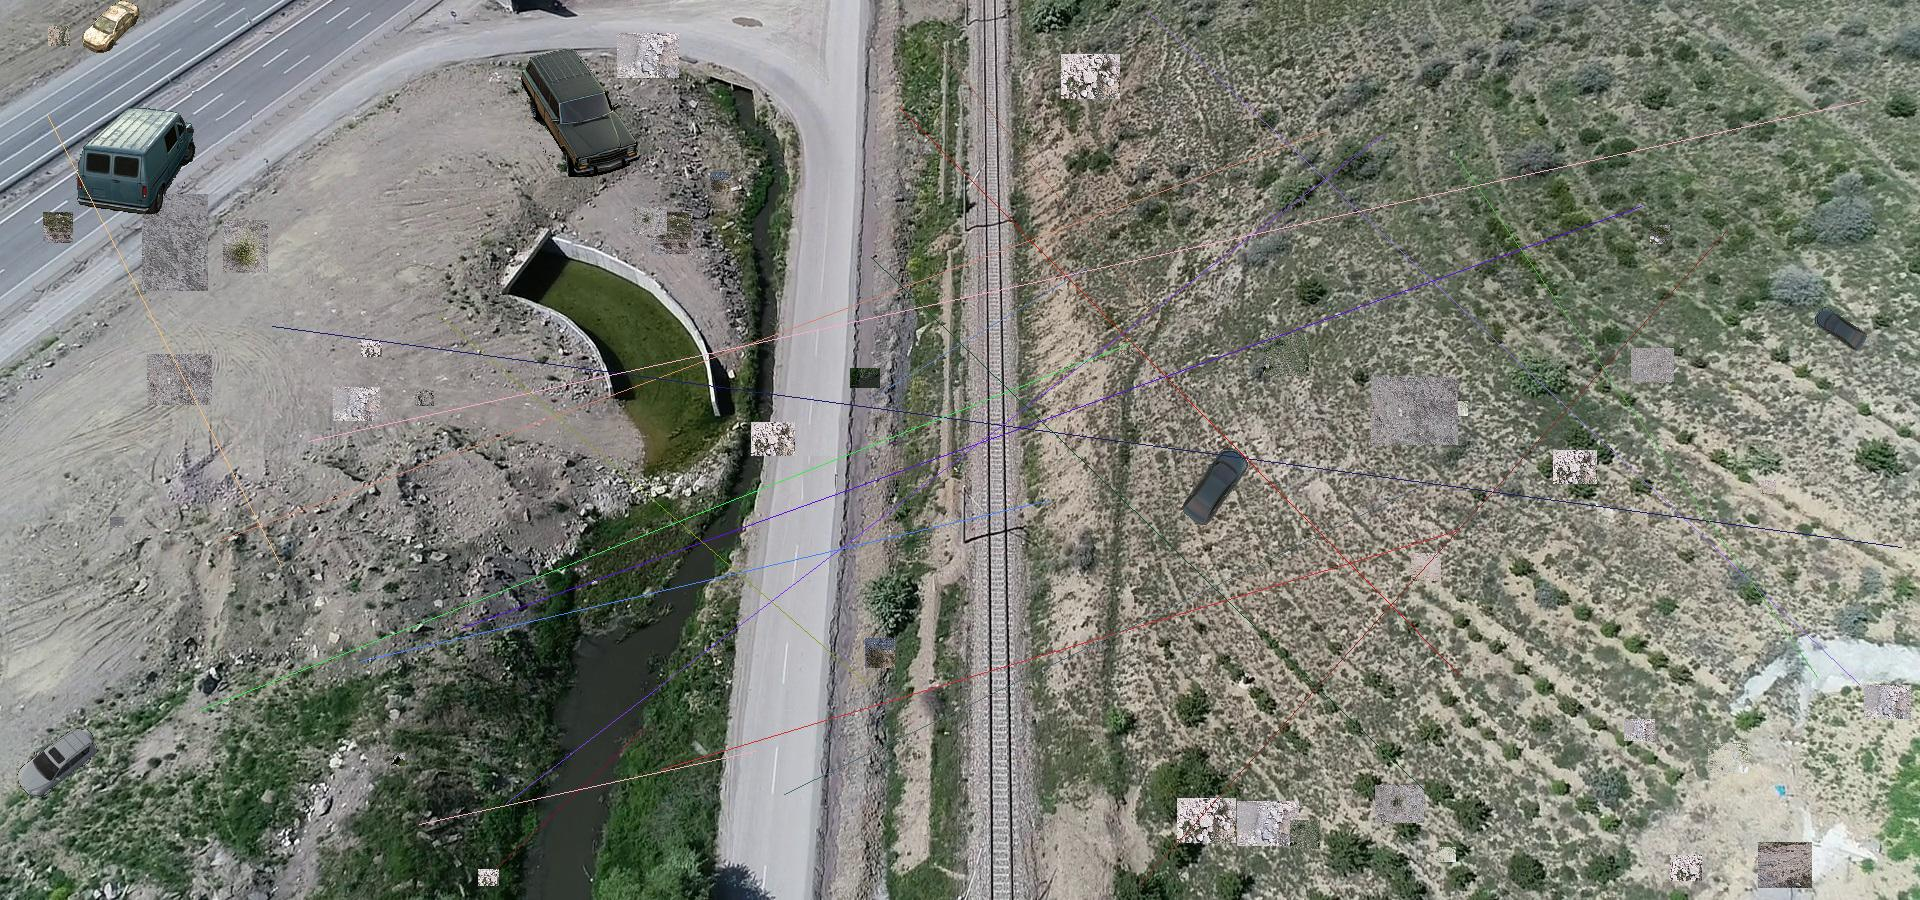arac: (516, 49, 642, 178), (73, 100, 200, 214), (1176, 446, 1250, 527), (13, 729, 97, 797), (81, 0, 146, 56), (1813, 307, 1869, 351)
